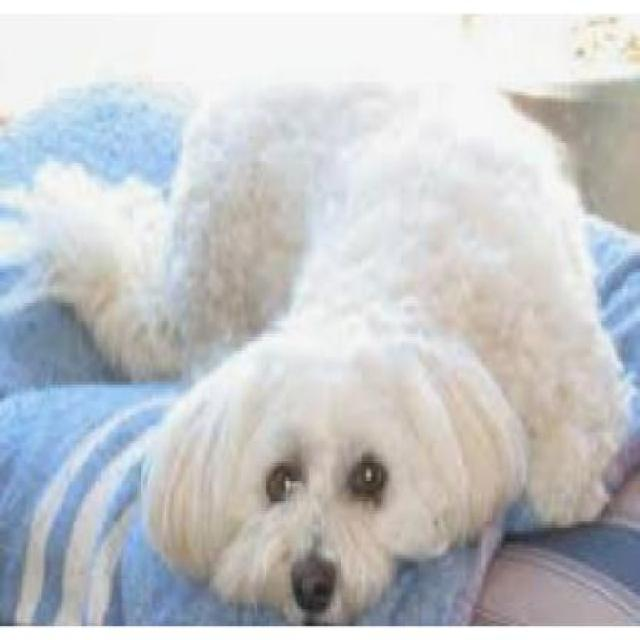Dog: (29, 46, 638, 626)
